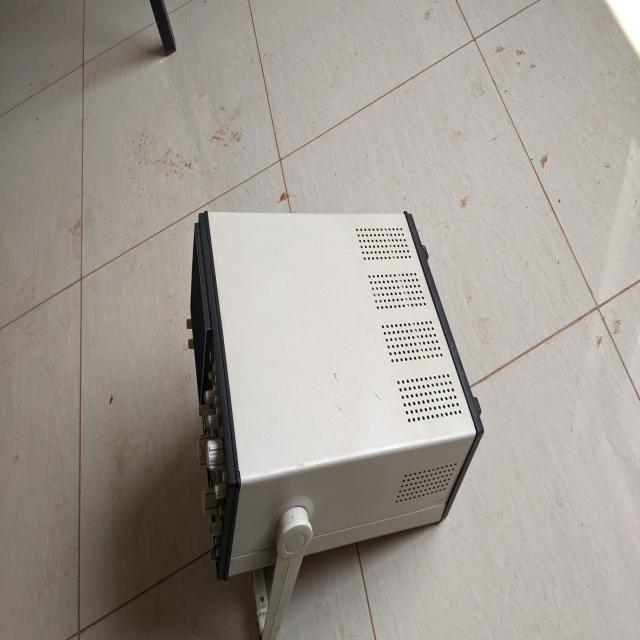Cathode Ray Oscilloscope: (173, 210, 493, 632)
